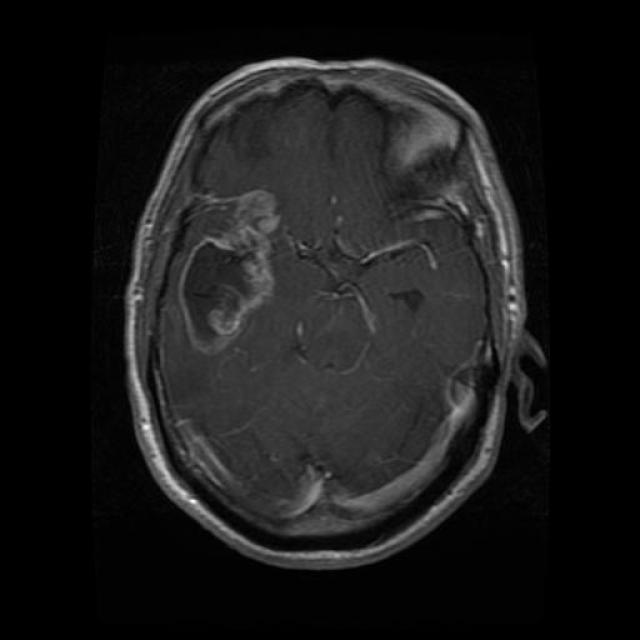Glioma: (176, 188, 282, 356)
